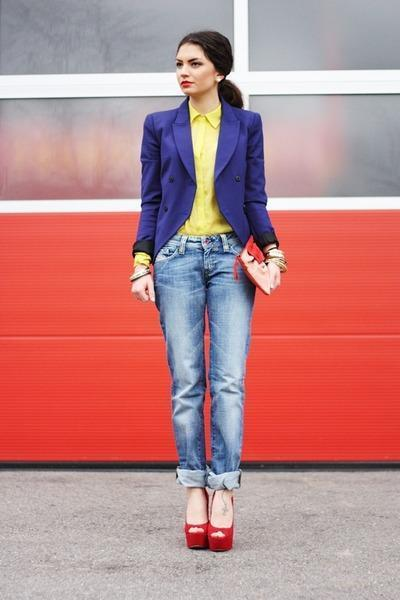bag: (234, 236, 284, 276)
jacket: (136, 95, 275, 256)
pants: (140, 233, 260, 498)
shirt: (178, 111, 231, 238)
shoe: (185, 519, 232, 551)
